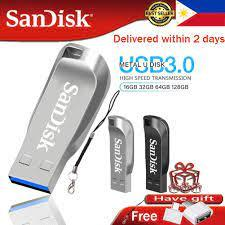Flash-drive: (17, 49, 98, 190), (103, 107, 138, 195), (143, 107, 172, 191)
